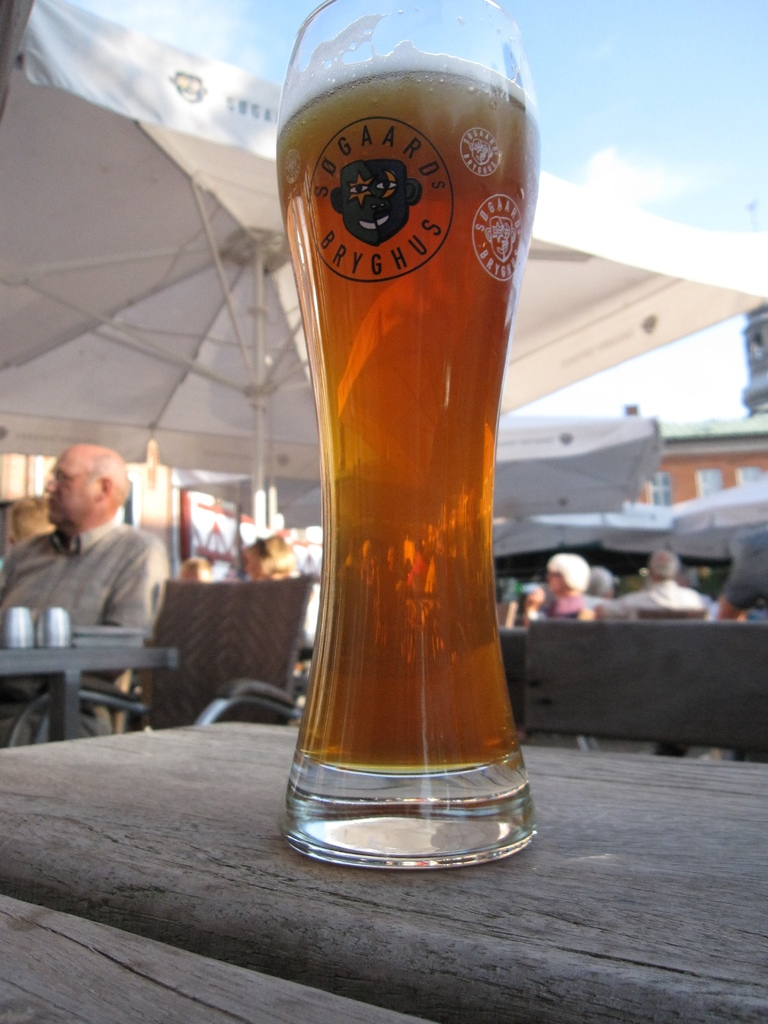Beer: (262, 0, 561, 896)
